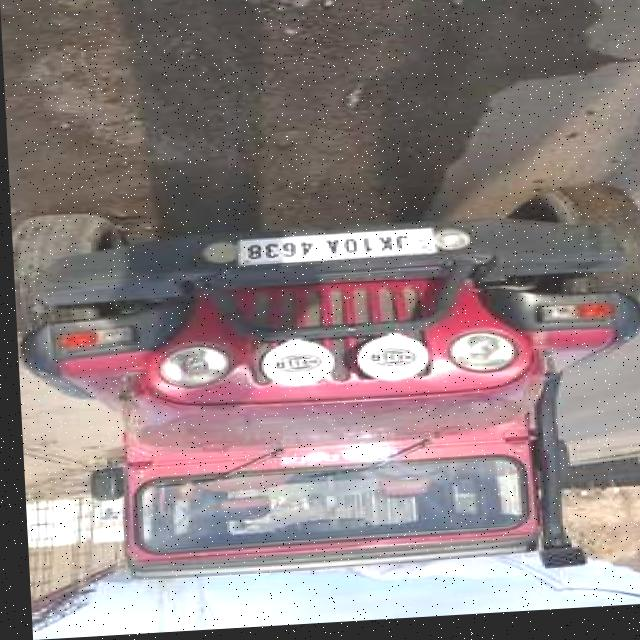plate: (233, 232, 432, 272)
